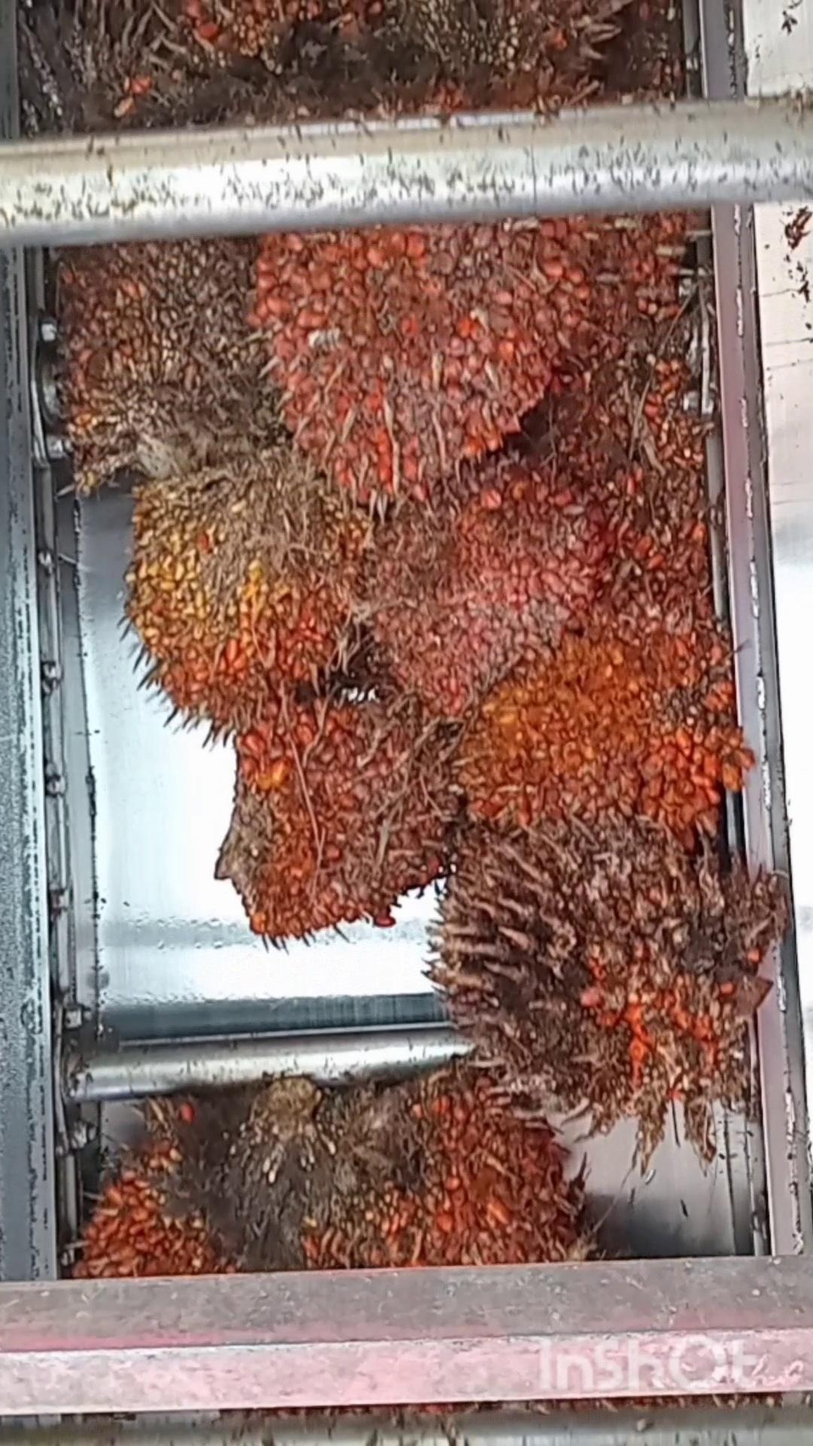Ripe: (259, 222, 587, 492), (209, 661, 481, 921), (132, 455, 389, 720), (236, 1093, 563, 1273), (362, 442, 595, 693), (58, 238, 291, 484), (473, 613, 750, 814), (61, 1122, 225, 1274)
SM: (434, 802, 801, 1159)
